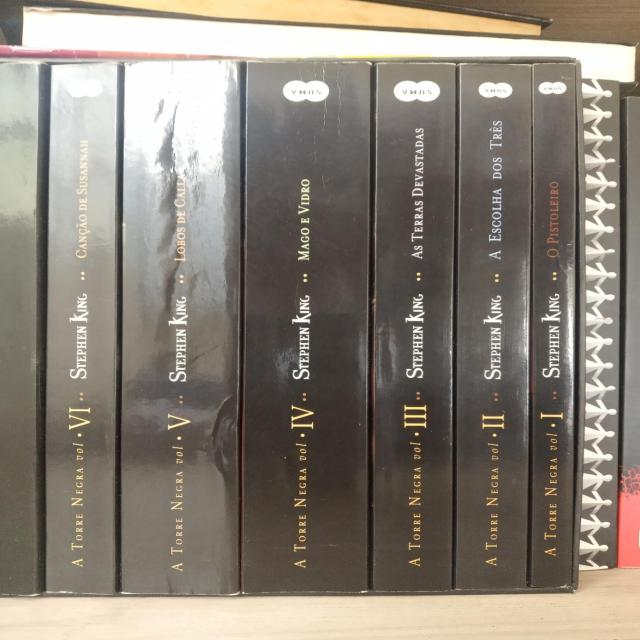book: (243, 68, 368, 592), (123, 67, 235, 592), (375, 65, 445, 588), (457, 65, 526, 588), (52, 65, 112, 592), (537, 65, 572, 585), (581, 81, 615, 567), (2, 66, 26, 595)
